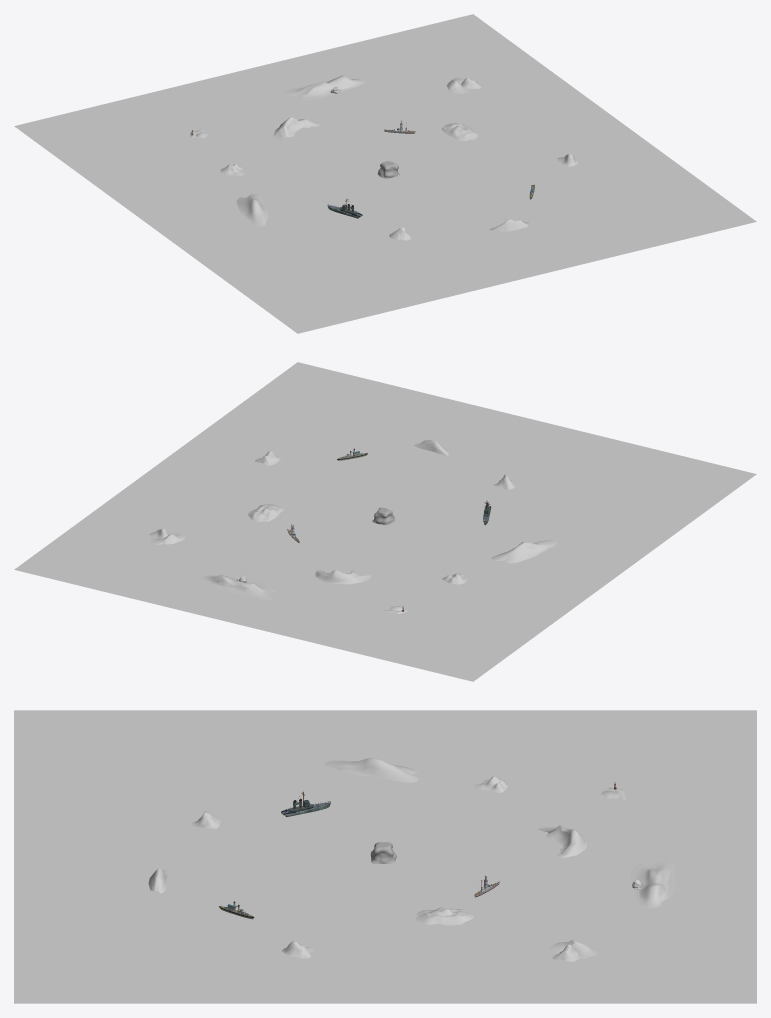
The model's file is Final Transfer .fbx.
The picture shows the model from 3 angles, top to bottom: view 1: azimuth 30°, elevation 25°; view 2: azimuth 150°, elevation 25°; view 3: azimuth 270°, elevation 25°; orthographic projection. The views are drawn at different scales.
Parts seen in each view (by area): view 1: pPlane1, polySurface1868, Island_08, Island_01; view 2: pPlane1, polySurface1868, Island_08, Island_01; view 3: pPlane1, polySurface1868, Island_08, Island_01, Island_013, Ship_2.
Part boxes in pixels (x1,y1,x2,y2): pPlane1: (14,14,756,333); polySurface1868: (283,75,365,100); Island_08: (236,194,267,226); Island_01: (274,117,320,141); pPlane1: (14,362,756,681); polySurface1868: (202,574,276,599); Island_08: (491,540,557,563); Island_01: (315,570,370,584); pPlane1: (14,710,756,1003); polySurface1868: (630,860,676,908); Island_08: (325,758,418,782); Island_01: (537,825,587,858); Island_013: (415,907,473,925); Ship_2: (281,791,330,816).
Size of the model in its own units: 1217442 by 40853 by 1302871.
